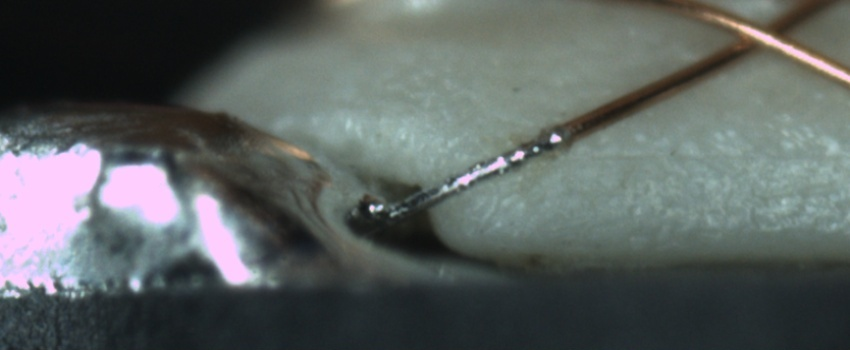CL: (714, 5, 815, 63)
DL: (589, 125, 850, 184)
TS: (375, 124, 570, 224)
